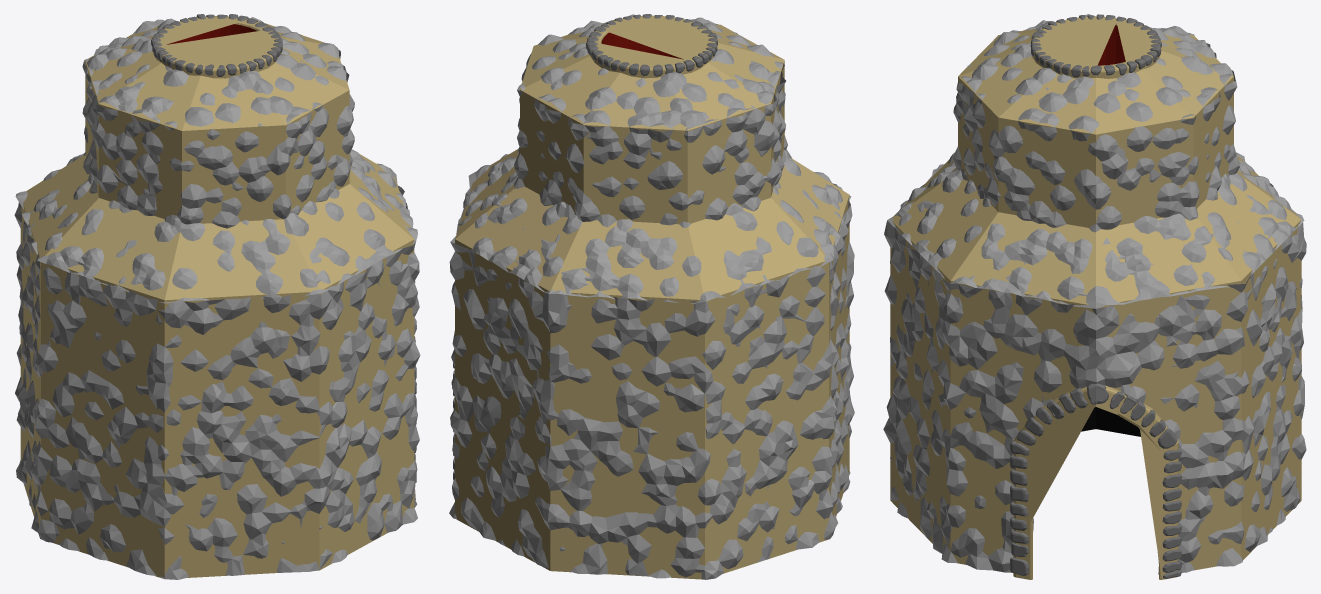
Rendered from horno.fbx.
3 renders of one model, left to right at view 1: azimuth 30°, elevation 25°; view 2: azimuth 150°, elevation 25°; view 3: azimuth 270°, elevation 25°, orthographic.
Parts seen in each view (by area): view 1: Cylinder.005; view 2: Cylinder.005; view 3: Cylinder.005.
Boxes of the visible parts, <box> form: Cylinder.005: <box>14,14,420,579</box>; Cylinder.005: <box>449,14,854,579</box>; Cylinder.005: <box>883,14,1306,579</box>.
Size of the model in its own units: 830 by 987 by 824.
